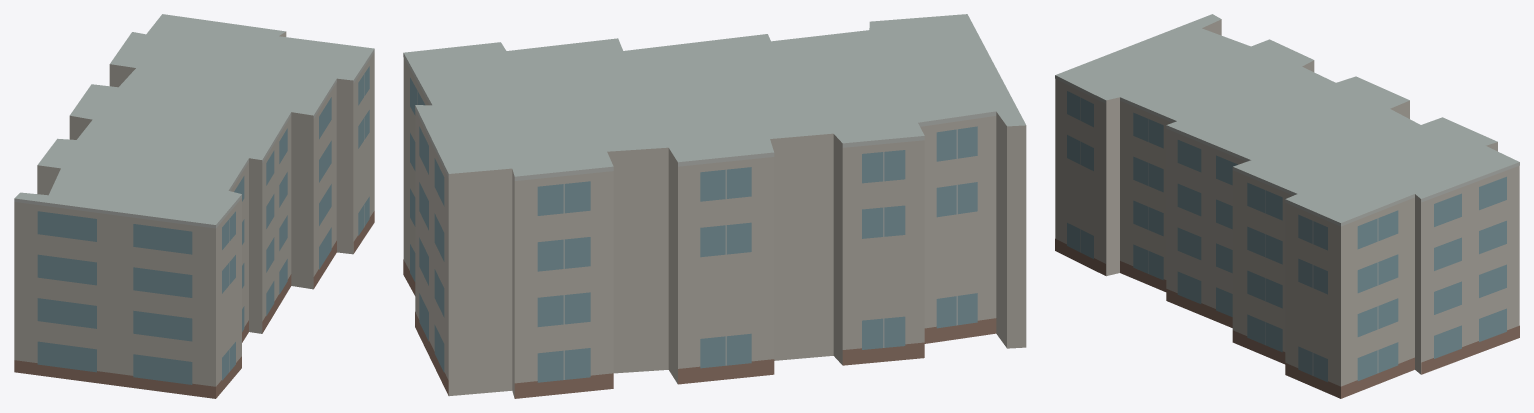
File: survey-upis-32977555.glb
3 views of the same model, side by side, from view 1: azimuth 30°, elevation 25°; view 2: azimuth 150°, elevation 25°; view 3: azimuth 270°, elevation 25° (orthographic). The views are drawn at different scales.
Visible parts, largest first — view 1: survey-upis-32977555.tmp; view 2: survey-upis-32977555.tmp; view 3: survey-upis-32977555.tmp.
Part boxes in pixels (bbox=[...]): survey-upis-32977555.tmp: bbox=[14, 14, 374, 398]; survey-upis-32977555.tmp: bbox=[403, 14, 1026, 398]; survey-upis-32977555.tmp: bbox=[1055, 14, 1519, 398].
Bounding box in the file's own units: 31.14 × 12.2 × 29.23.
